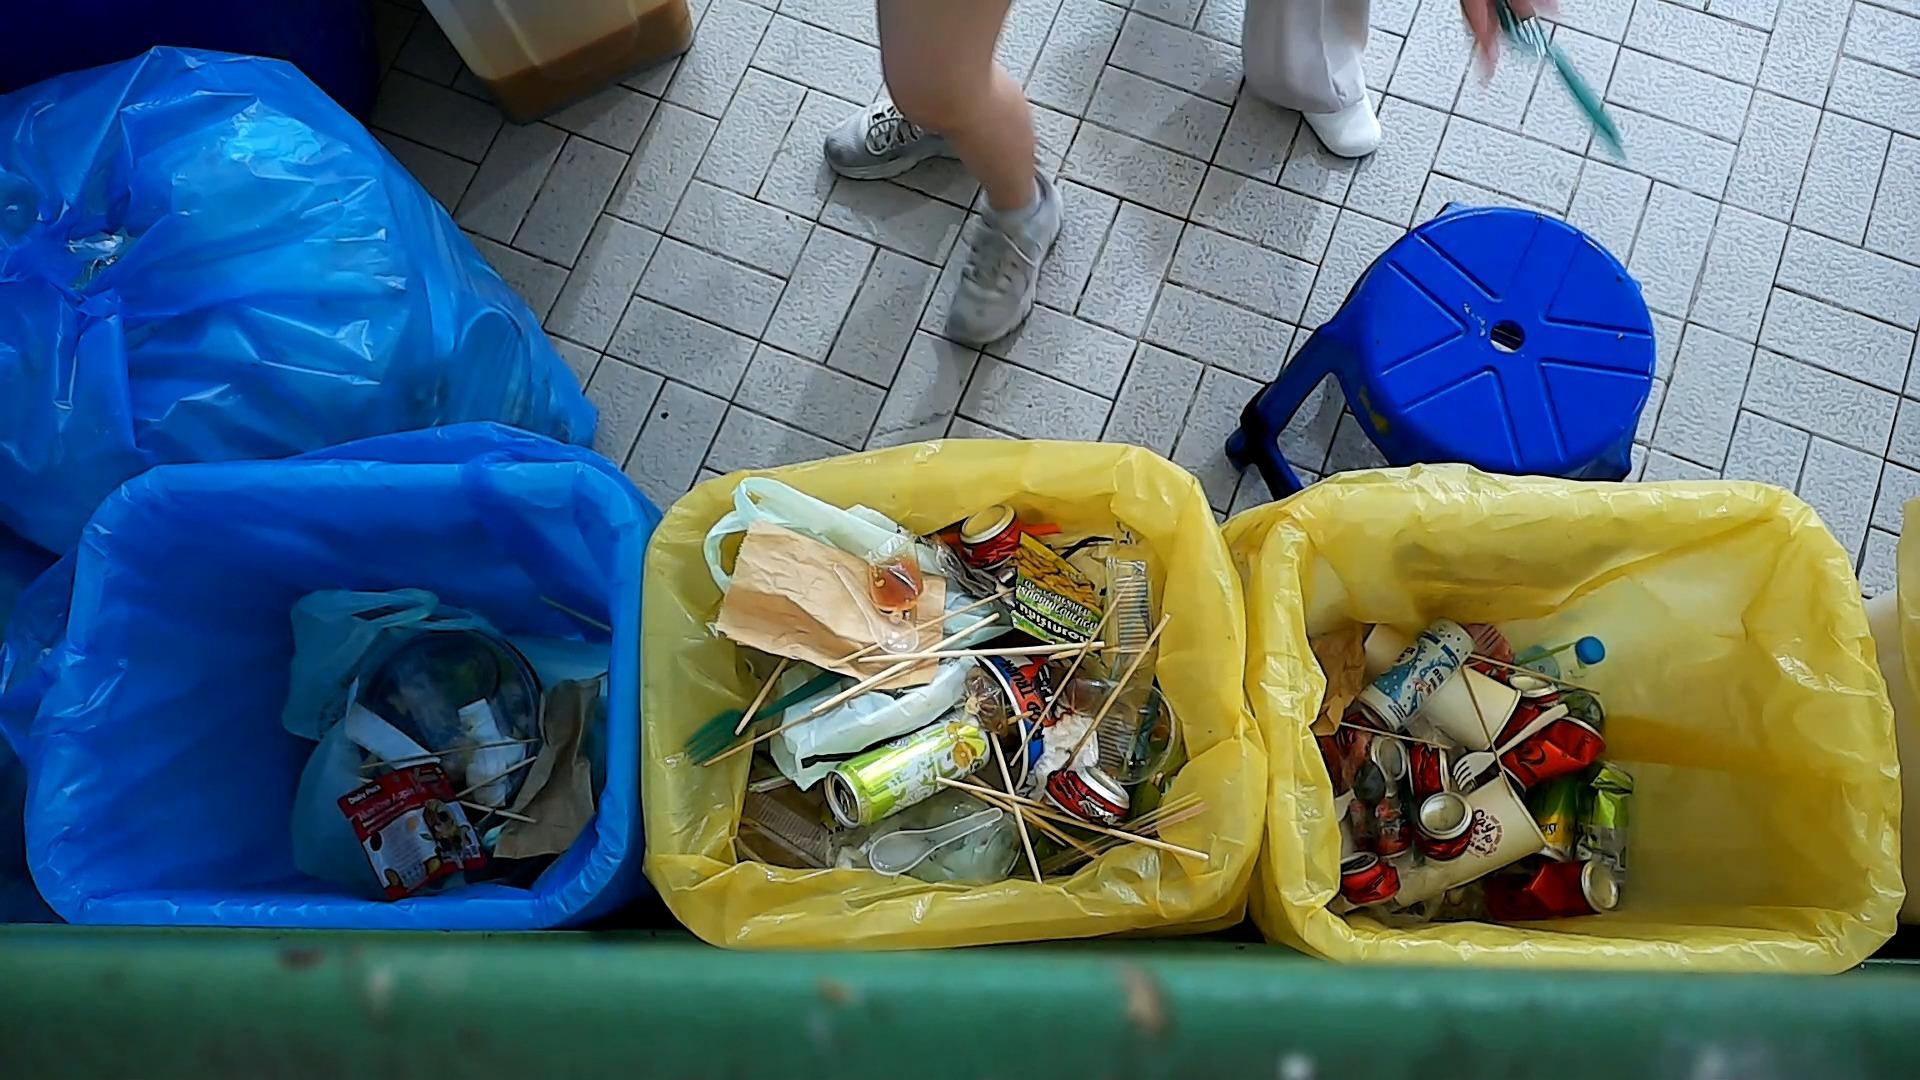can: (822, 704, 994, 836), (1358, 618, 1477, 732), (1493, 705, 1613, 793), (1578, 758, 1635, 886), (1523, 857, 1622, 918), (1327, 720, 1407, 789), (956, 500, 1027, 576), (1414, 791, 1481, 868), (1337, 857, 1407, 918), (1398, 745, 1456, 803), (1538, 794, 1580, 868)
filled plastic bag: (291, 609, 543, 887)
food container: (737, 787, 843, 868), (1106, 553, 1163, 673)
paper bag: (711, 502, 969, 698), (498, 671, 596, 864), (1309, 622, 1367, 736)
plastic bag: (766, 638, 984, 786)
plastic cutlery: (1493, 0, 1634, 158), (684, 665, 844, 762), (868, 802, 1011, 884), (1449, 699, 1568, 791), (831, 555, 922, 658), (1350, 769, 1398, 877)
snack packaging: (335, 760, 484, 901), (1007, 518, 1113, 661)
sticks: (700, 662, 907, 771), (1062, 605, 1178, 771), (799, 617, 996, 713), (1000, 687, 1131, 803), (1010, 605, 1102, 769), (833, 585, 1015, 663), (1026, 804, 1197, 857), (986, 728, 1044, 884), (1452, 662, 1515, 783), (359, 733, 539, 775), (841, 642, 1102, 670), (1456, 654, 1601, 698), (731, 651, 793, 737), (942, 777, 1062, 816), (1336, 717, 1452, 753), (450, 756, 537, 798), (455, 799, 538, 825)
straw: (1031, 787, 1201, 873)
tissue paper: (448, 695, 533, 786), (1030, 716, 1101, 815)
zero waste cup: (1365, 624, 1523, 758), (1391, 774, 1549, 909)
